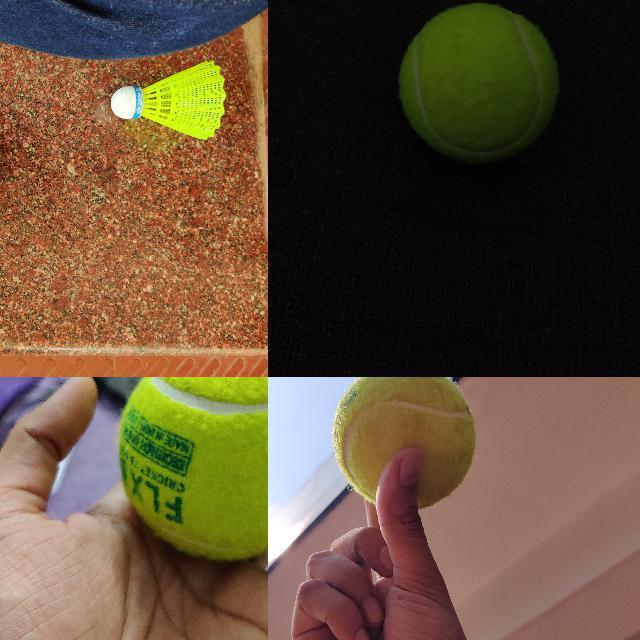tennis-ball: (117, 377, 267, 562), (398, 1, 558, 162), (332, 377, 476, 511)
